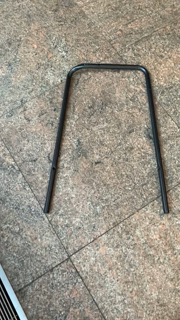U pipe: (42, 62, 174, 218)
